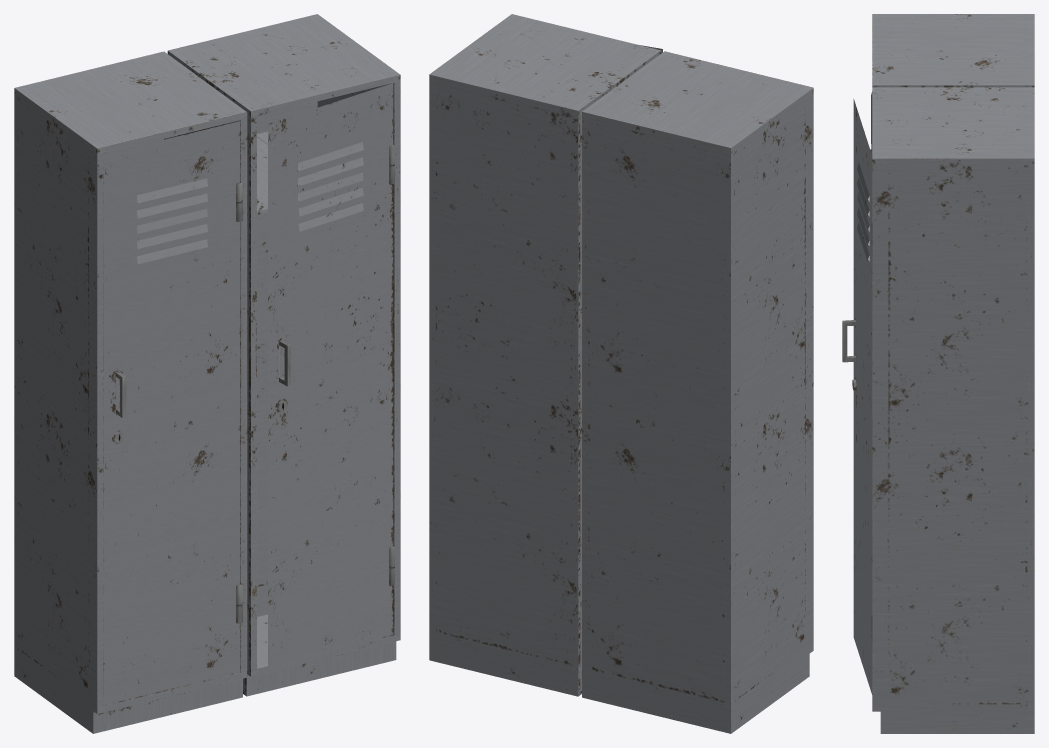
File: metal_cabinet_low_poly.glb
The picture shows the model from 3 angles, left to right: view 1: azimuth 30°, elevation 25°; view 2: azimuth 150°, elevation 25°; view 3: azimuth 270°, elevation 25°; orthographic projection. The views are drawn at different scales.
Parts seen in each view (by area): view 1: Cube.003, Cube.001, Cylinder.000; view 2: Cube.001; view 3: Cube.001, Cube.003, Cylinder.000.
Boxes of the visible parts, x1,y1,x2,y2 form: Cube.003: [103, 83, 393, 705]; Cube.001: [14, 14, 400, 733]; Cylinder.000: [113, 145, 394, 623]; Cube.001: [429, 14, 813, 733]; Cube.001: [872, 14, 1034, 733]; Cube.003: [853, 91, 872, 694]; Cylinder.000: [842, 148, 872, 652].
Size of the model in its own units: 1.08 by 2 by 0.6068.
Materials: 3 (3 with a texture image).
